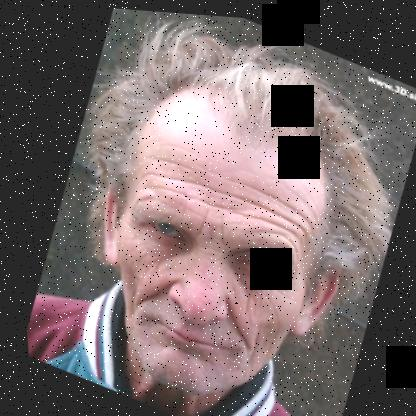Male: (41, 53, 388, 416)
